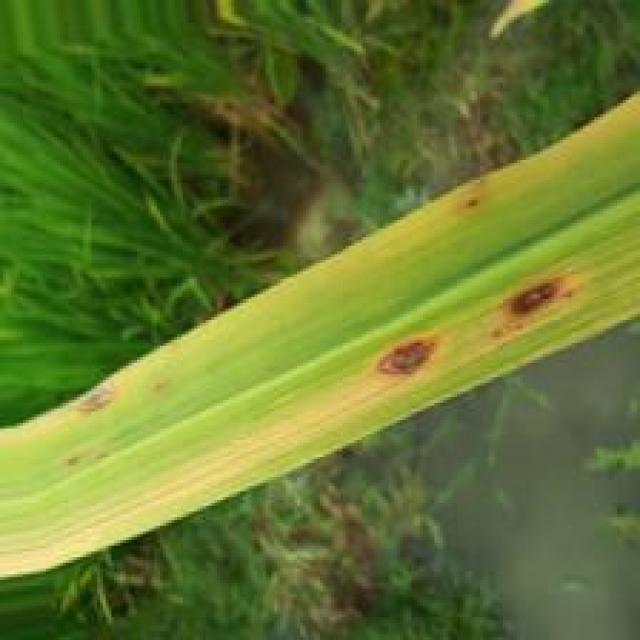Brown_Spot: (366, 329, 443, 382), (504, 273, 564, 318)
